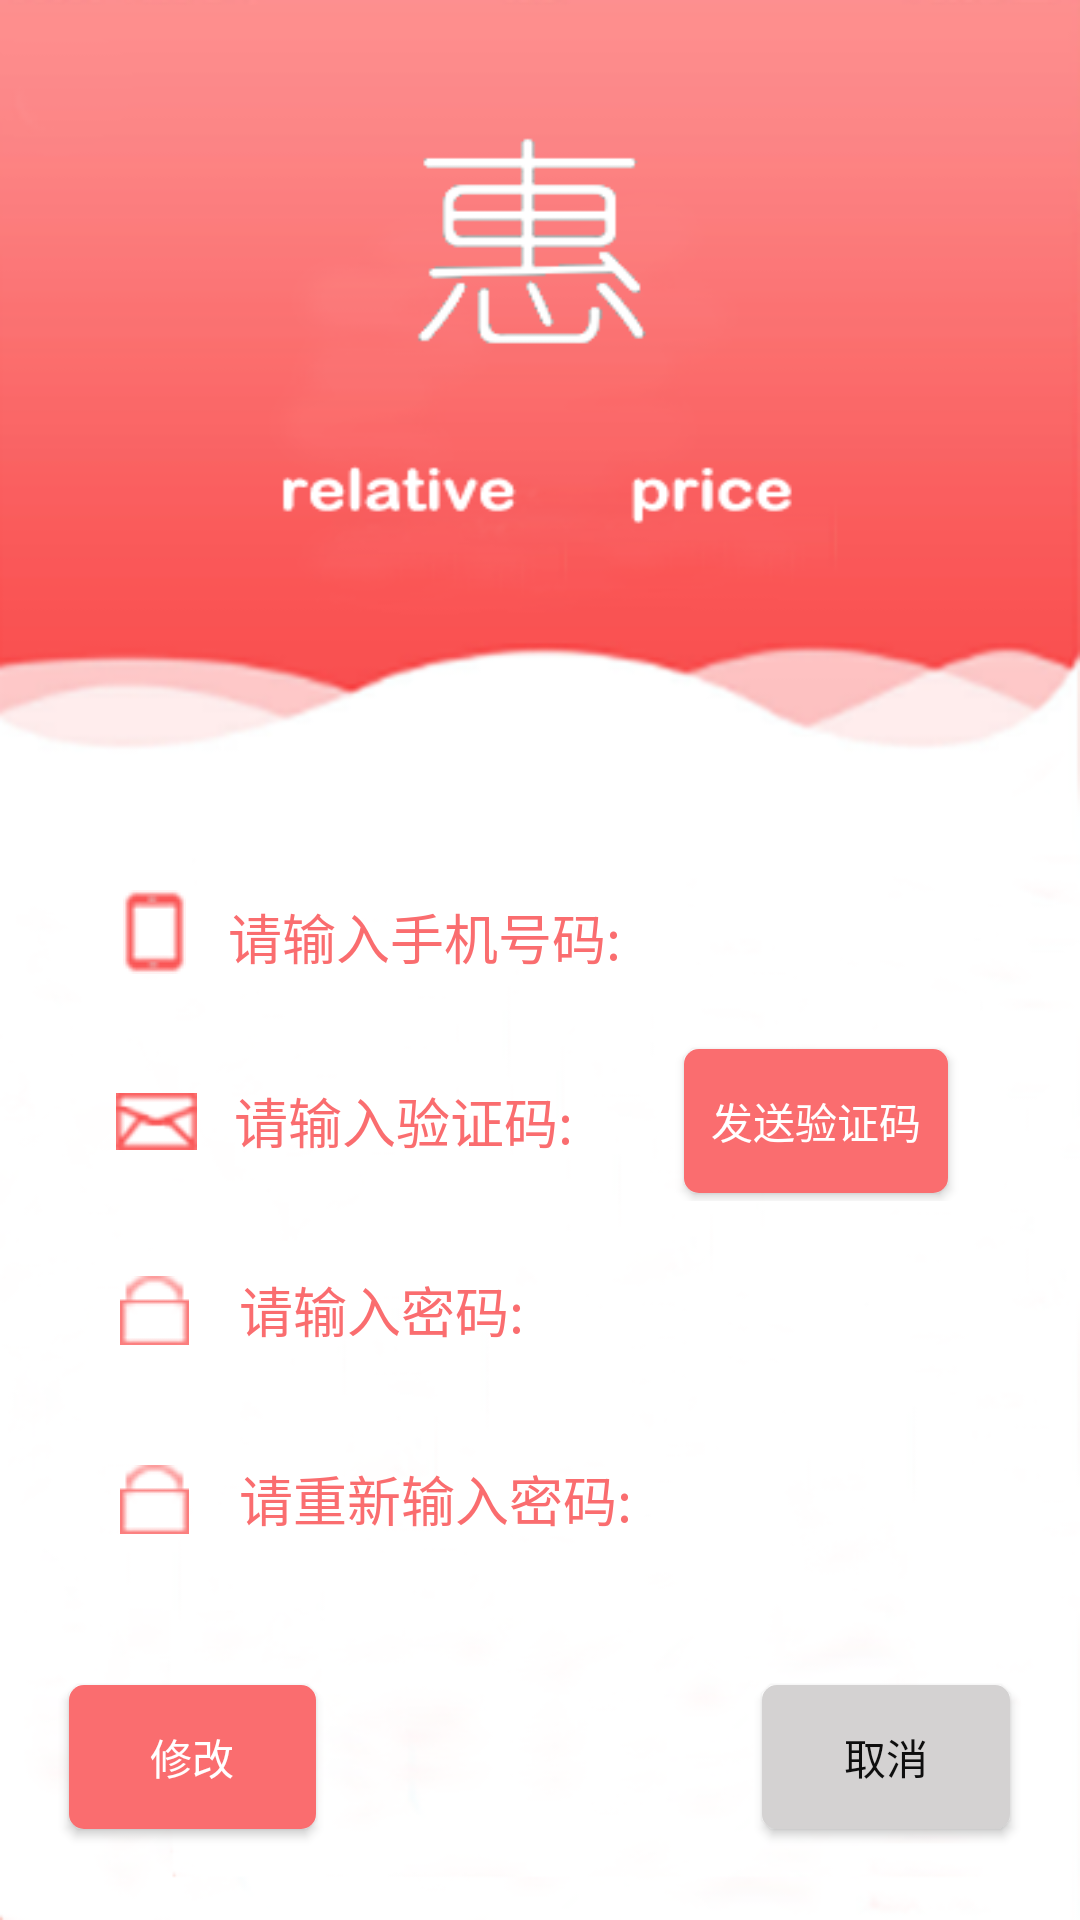

Screen size 1080w x 1920h. Icon name, then its box in pixels as bbox=(x1, y1, x2, y2):
message: bbox=(116, 1093, 197, 1150)
phone: bbox=(125, 892, 184, 972)
